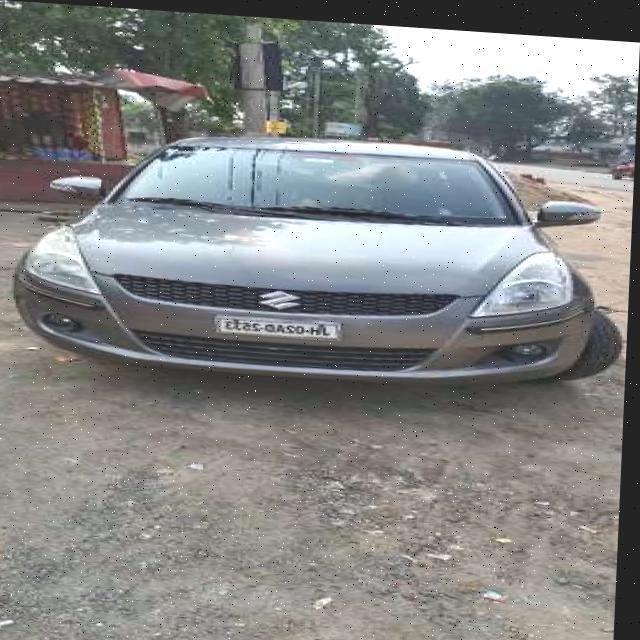plate: (218, 312, 342, 336)
